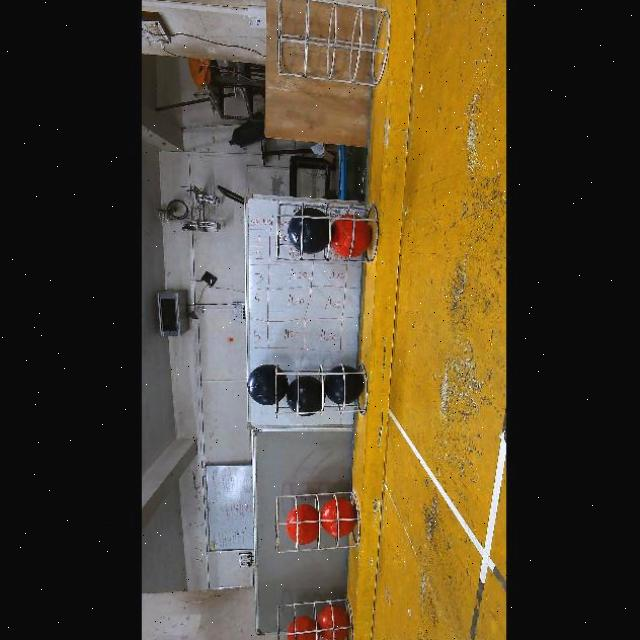P: (286, 207, 328, 255), (246, 364, 288, 405), (323, 365, 364, 405), (285, 375, 322, 417)
R: (330, 218, 372, 257), (321, 498, 356, 538), (286, 504, 318, 545), (317, 605, 348, 640), (285, 615, 315, 640)
S: (274, 0, 396, 84), (270, 200, 384, 262), (267, 487, 363, 558), (272, 364, 368, 421), (276, 596, 350, 640)
